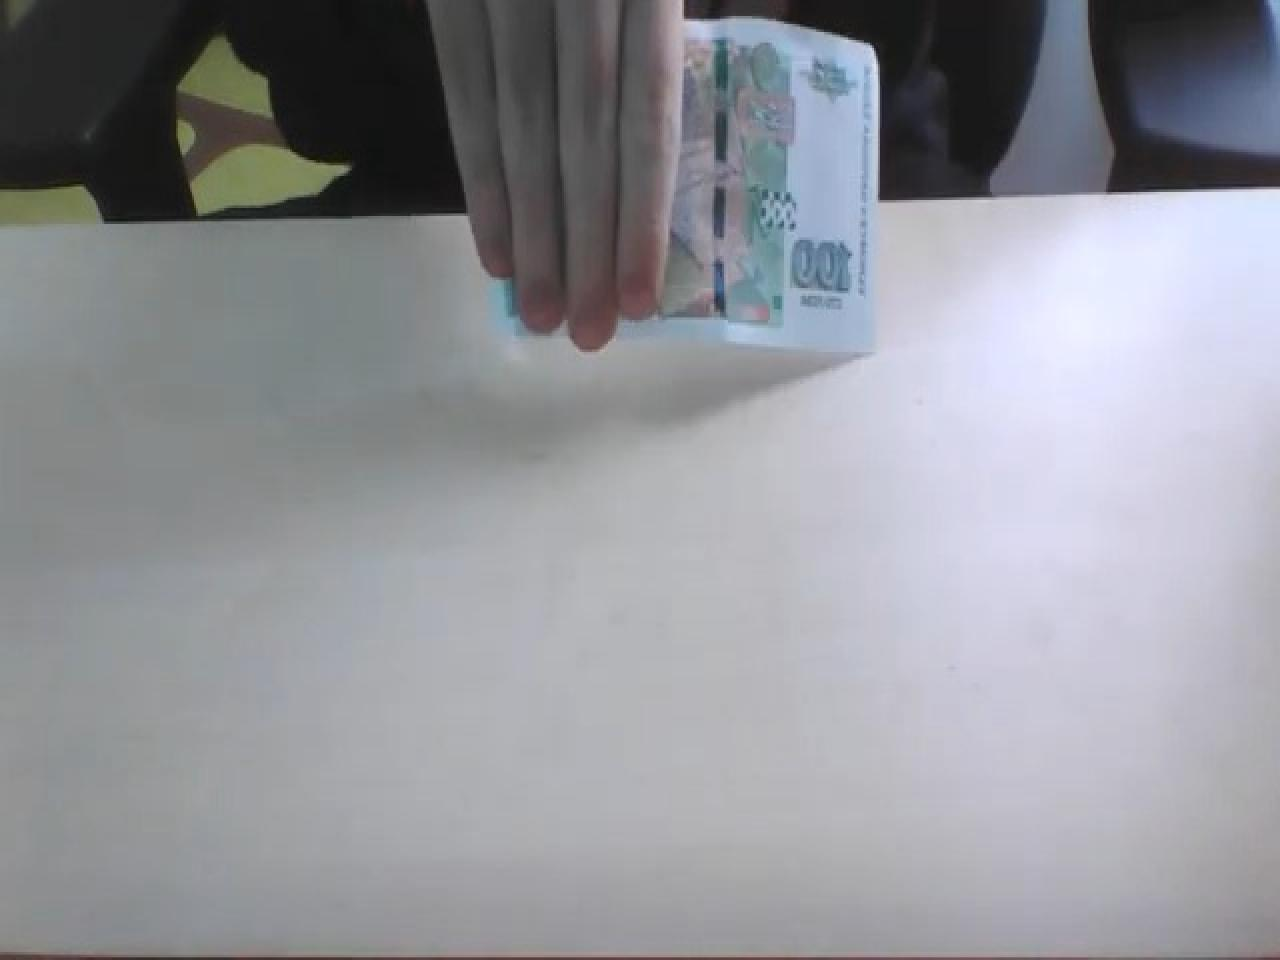100leva: (790, 232, 856, 296)
